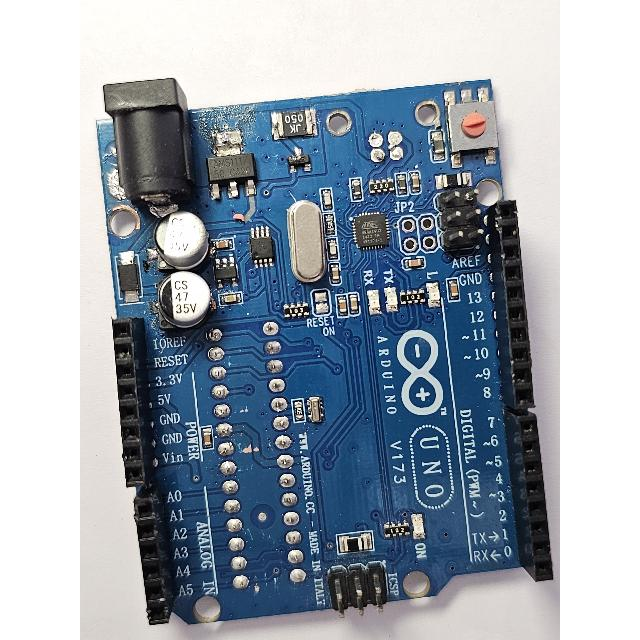missing_atmega: (202, 313, 317, 598)
missing_usb: (320, 96, 429, 175)
